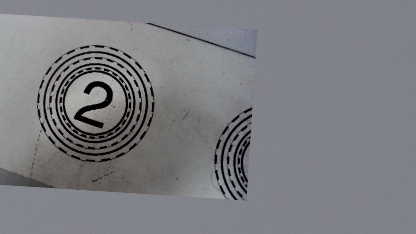2r: (32, 40, 158, 167)
